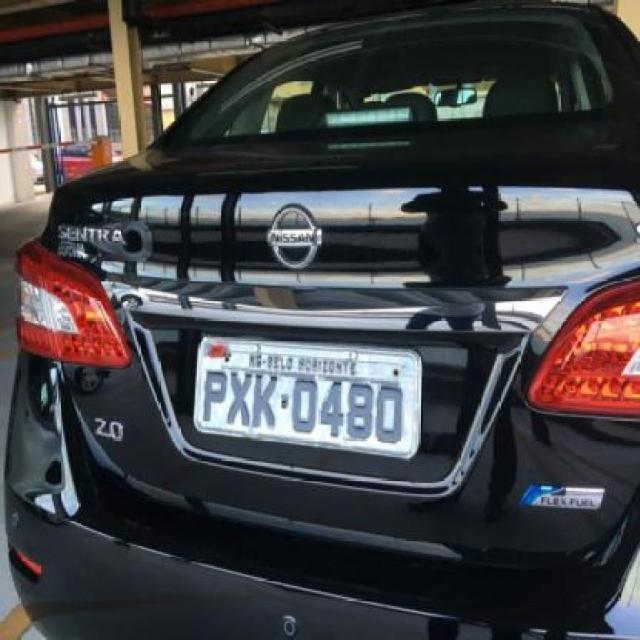old_plate: (185, 329, 430, 464)
